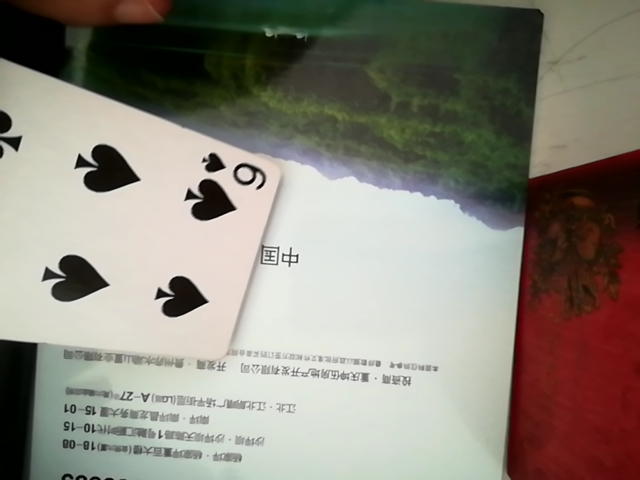ht 6: (0, 54, 292, 370)
